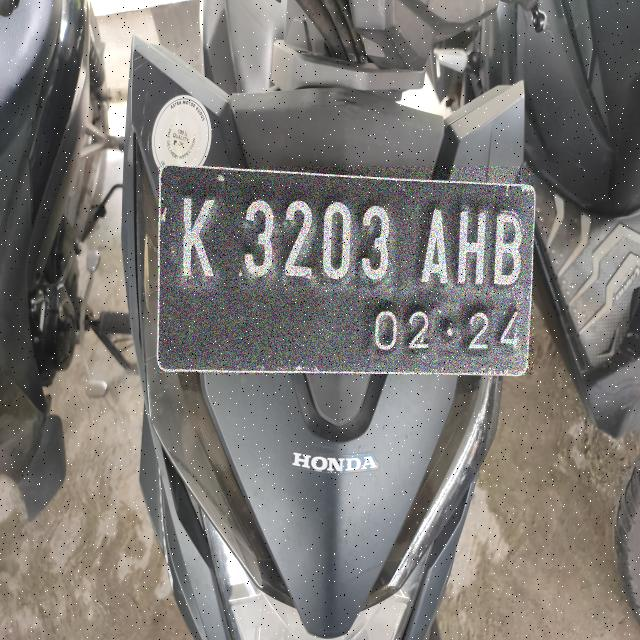plate: (158, 166, 533, 374)
